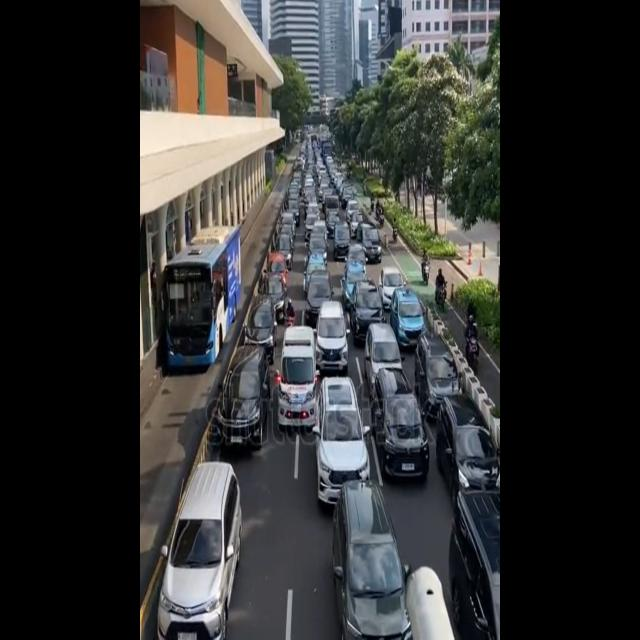Ambulance: (272, 312, 320, 438)
